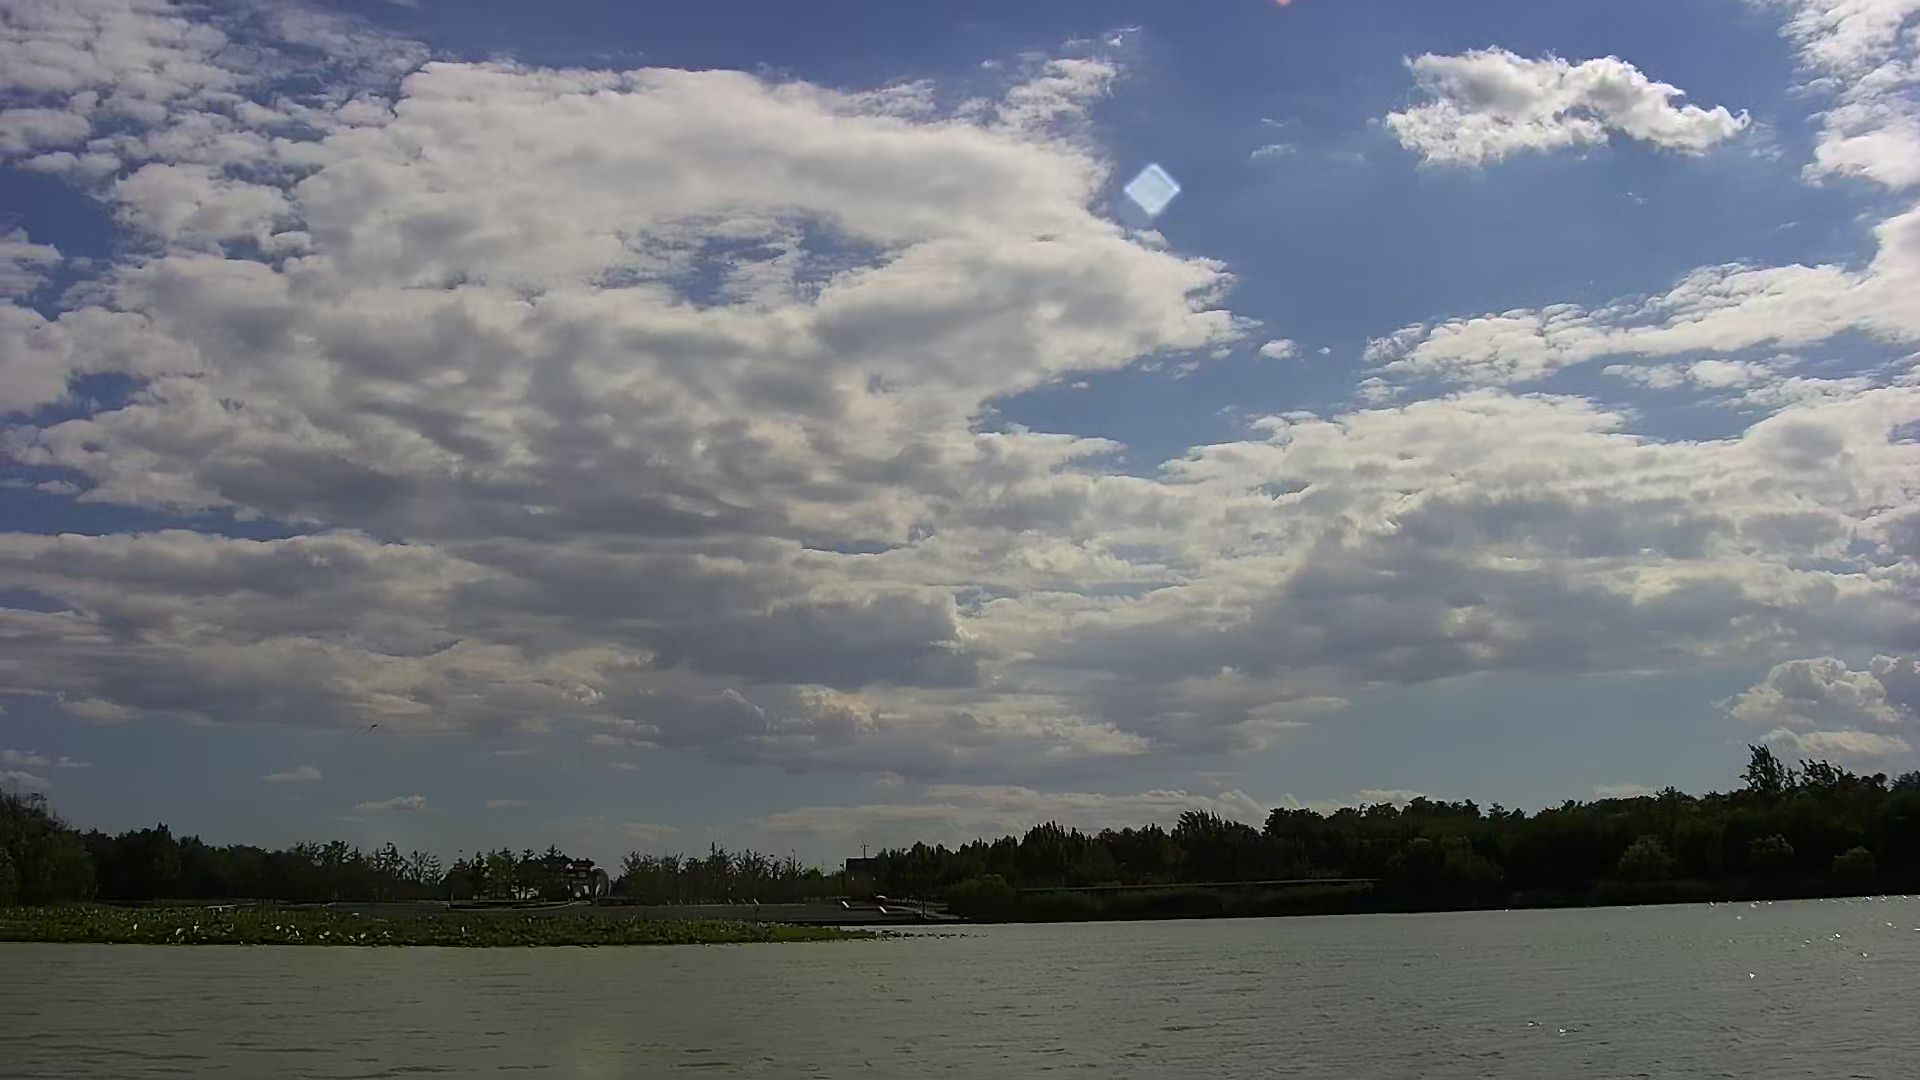harbor: (749, 891, 961, 928)
